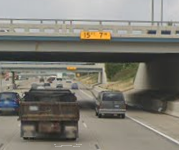1: (82, 31, 86, 39)
5: (85, 31, 91, 39)
7: (97, 31, 104, 40)
overheadsign: (79, 30, 111, 41)
